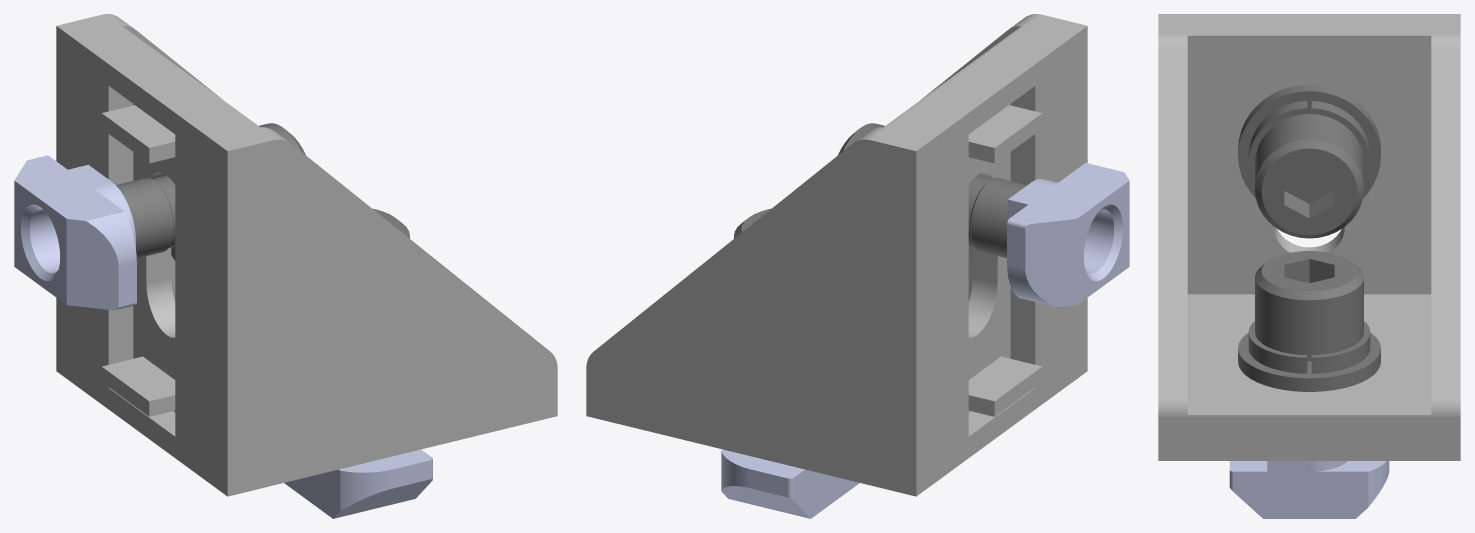
The model's file is TPGK-TPGK-4010-4040-Z-ZP-DZ.glb.
The picture shows the model from 3 angles, left to right: view 1: azimuth 30°, elevation 25°; view 2: azimuth 150°, elevation 25°; view 3: azimuth 270°, elevation 25°; orthographic projection. The views are drawn at different scales.
Visible parts, largest first — view 1: NAUO1, NAUO5, NAUO3, NAUO4; view 2: NAUO1, NAUO5, NAUO3, NAUO4; view 3: NAUO1, NAUO4, NAUO2, NAUO3.
Part boxes in pixels (x1,y1,x2,y2): NAUO1: (56,14,557,496); NAUO5: (14,155,136,310); NAUO3: (284,449,432,518); NAUO4: (116,123,305,260); NAUO1: (586,14,1087,496); NAUO5: (1007,163,1129,307); NAUO3: (721,449,859,518); NAUO4: (838,123,1027,260); NAUO1: (1158,14,1460,460); NAUO4: (1238,85,1380,238); NAUO2: (1238,251,1380,391); NAUO3: (1229,461,1389,518).
Bounding box in the file's own units: 0.0523 × 0.0523 × 0.036.
